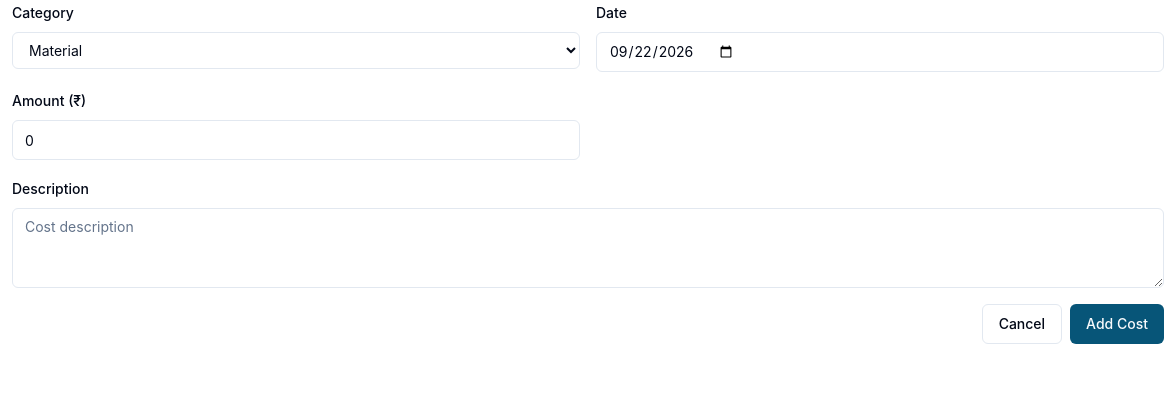
Test: CostEntryForm › requires description and positive amount
Click the button "Add Cost": point(1117, 324) [1070, 304, 1164, 344]
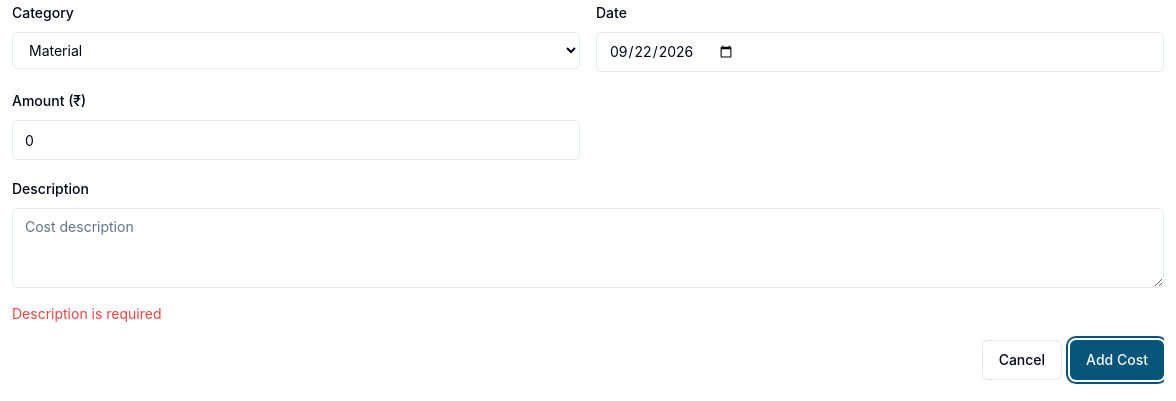
Check: the text "Description is required" is shown, box [12, 305, 162, 322]
In the text box labelled "Description": point(588, 248) [12, 208, 1164, 288], type "x"
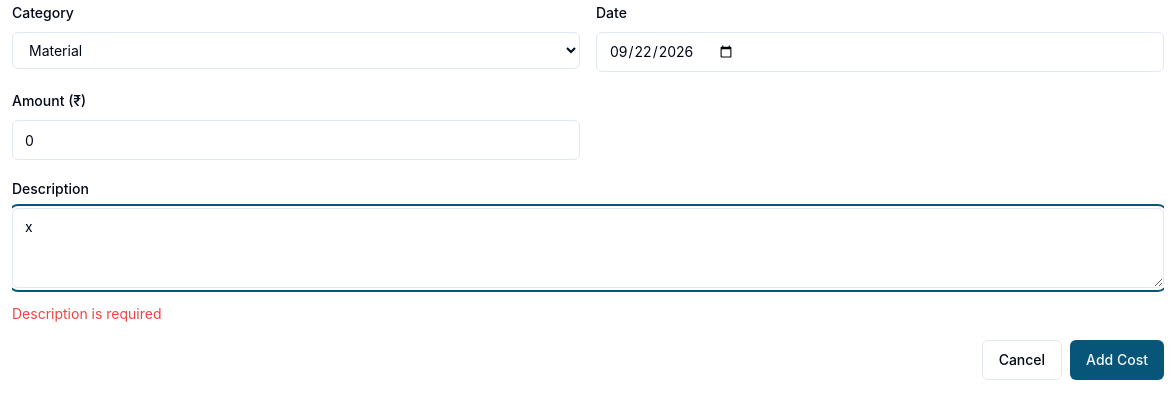
Click the button "Add Cost": point(1117, 360) [1070, 340, 1164, 380]
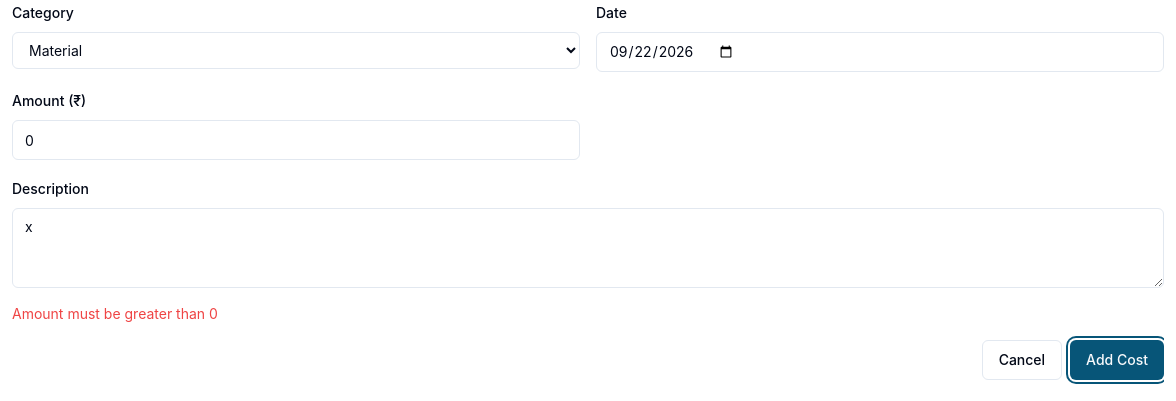
Check: the text "Amount must be greater than 0" is shown, box [12, 305, 218, 322]
